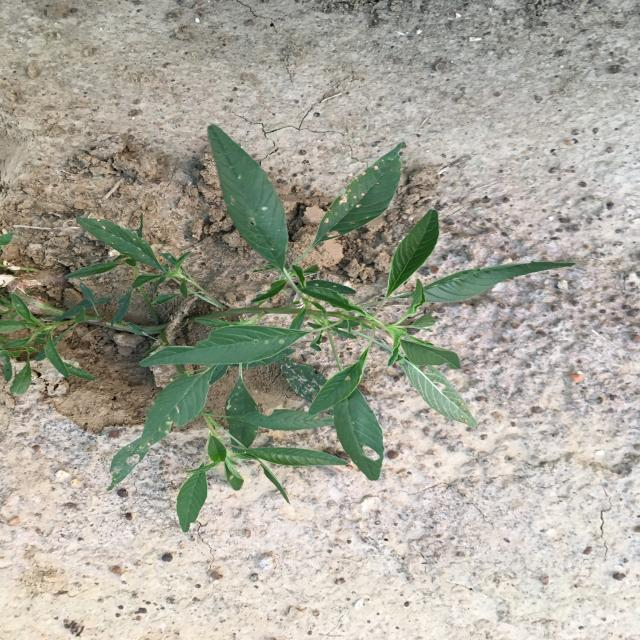Waterhemp: (1, 124, 576, 532)
